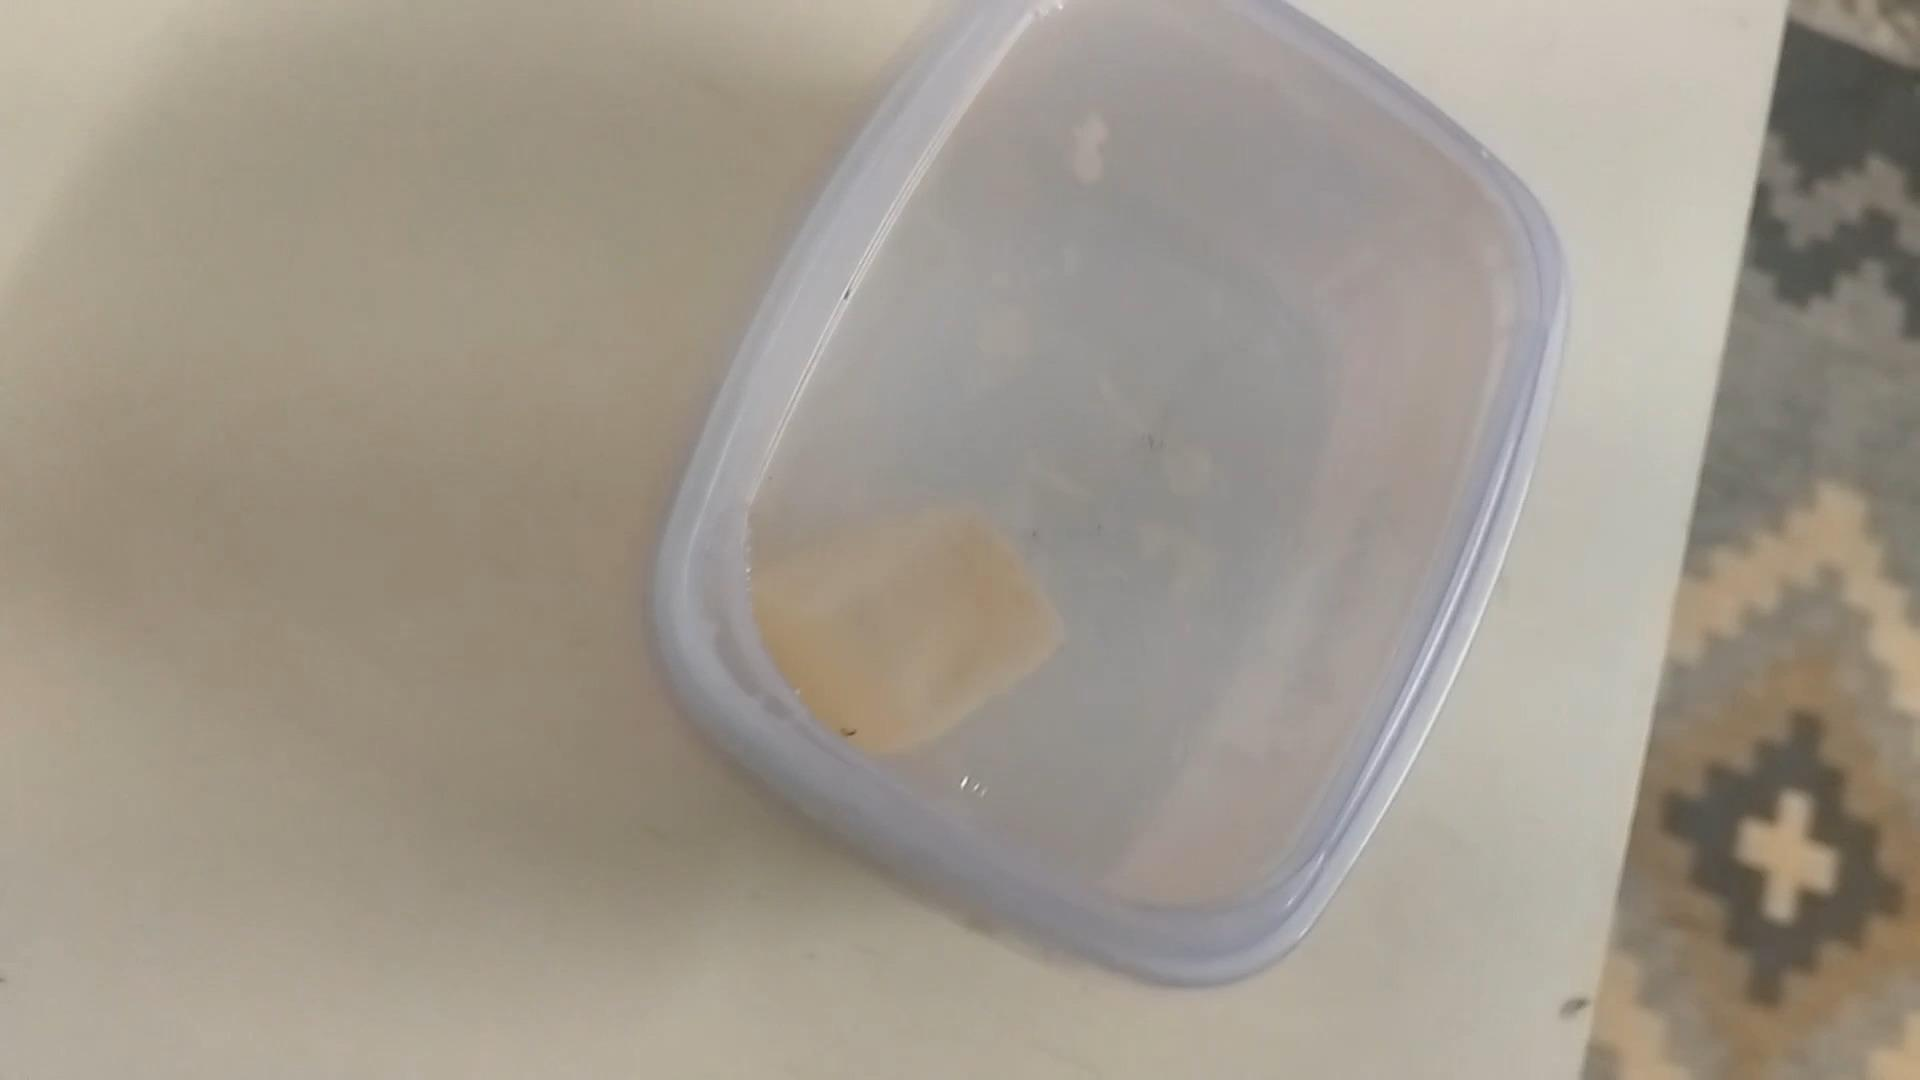butter: (644, 0, 1551, 988)
